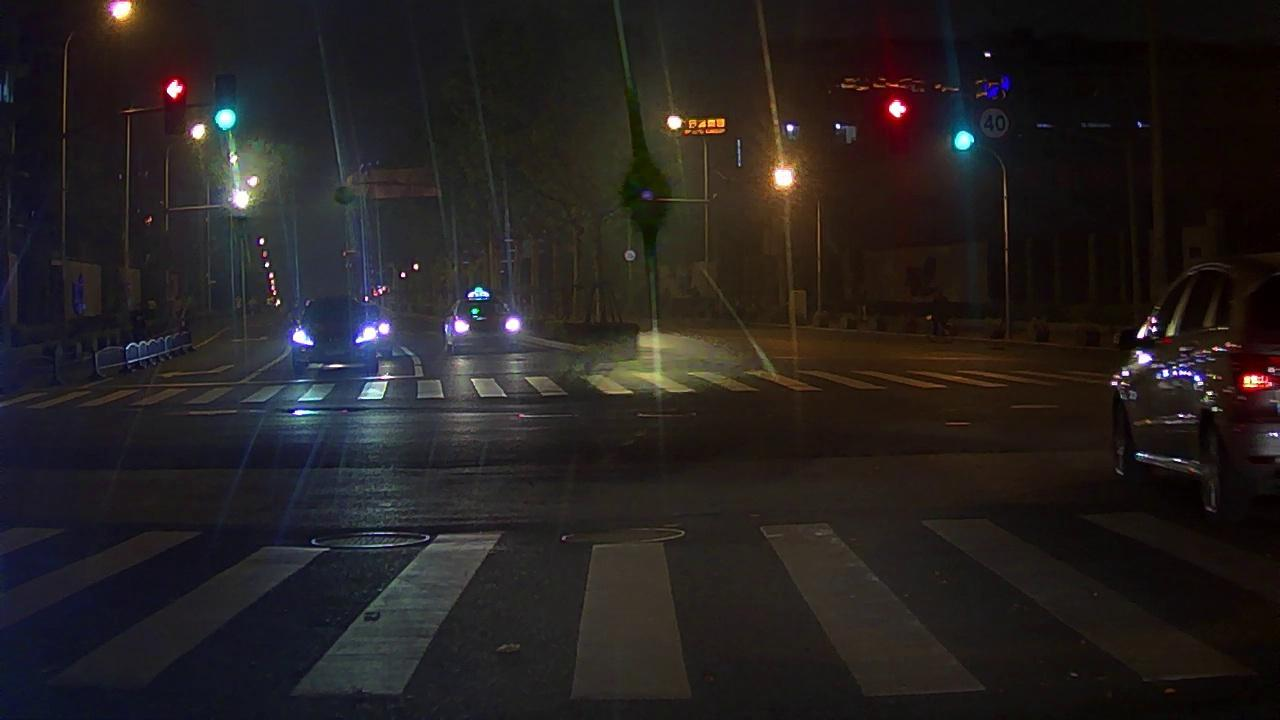traffic_light: (164, 76, 183, 132), (215, 76, 233, 131), (956, 112, 973, 163), (890, 97, 907, 144)
